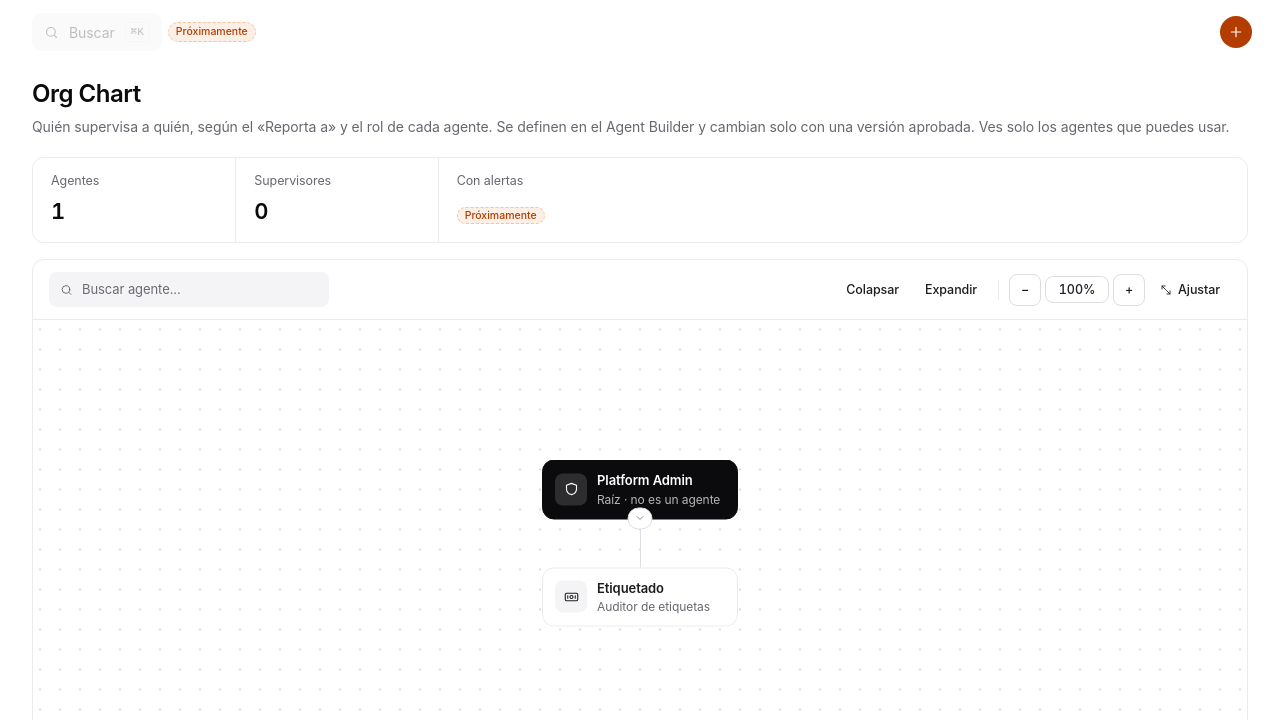
Test: OrgChartPage › tells who sees an agent they cannot use why, and who uses it (creator: false, may edit: false)
Click the button with aria-label "Etiquetado, Auditor de etiquetas".
click(640, 597)  # box [543,568,737,626]
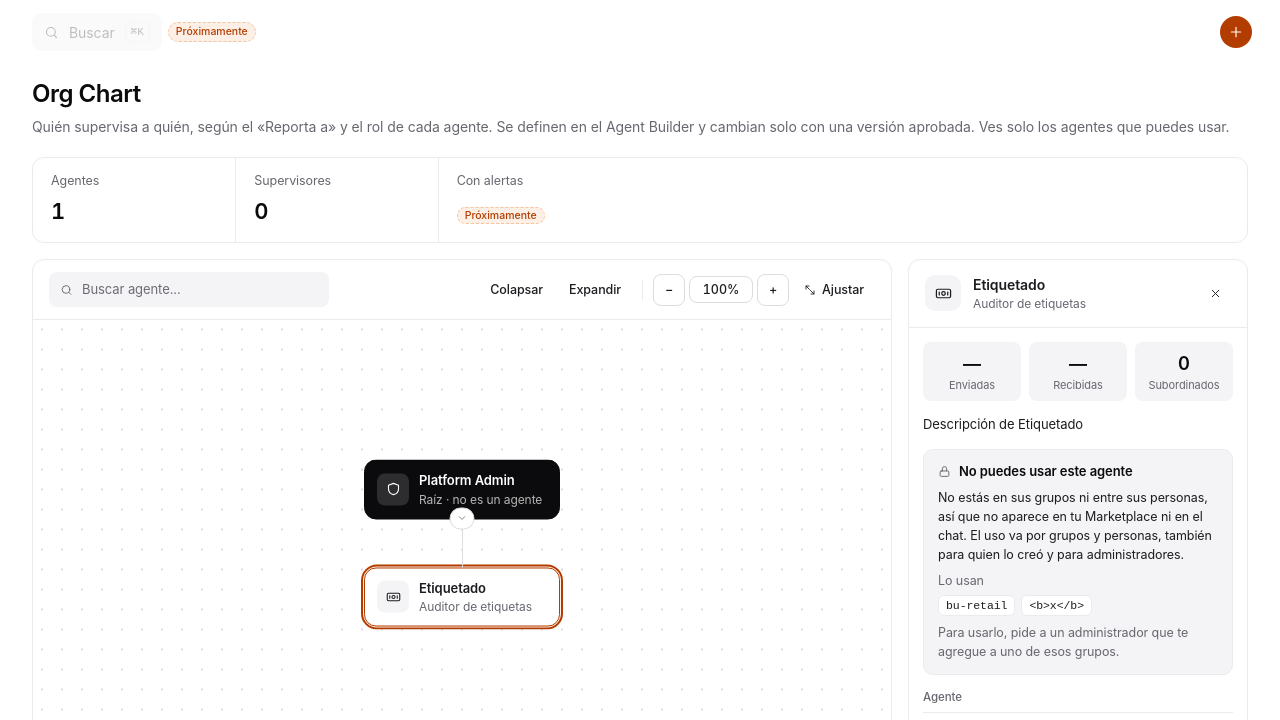
Expected: the element that starts with "No puedes usar este agente" is shown, [959,463,1133,479]
Expected: the element that starts with "No puedes usar este agente" shows "No estás en sus grupos ni entre sus personas, así que no aparece en tu Marketplace ni en el chat. El uso va por grupos y personas, también para quien lo creó y", [938,490,1212,562]
Expected: the text with class "oc-nouse-how" reads "Para usarlo, pide a un administrador que te agregue a uno de esos grupos.", [938,625,1188,659]
